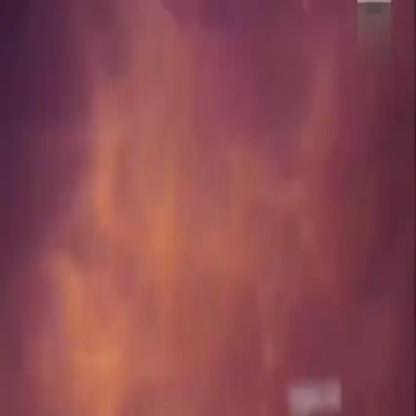fire: (39, 32, 226, 416)
